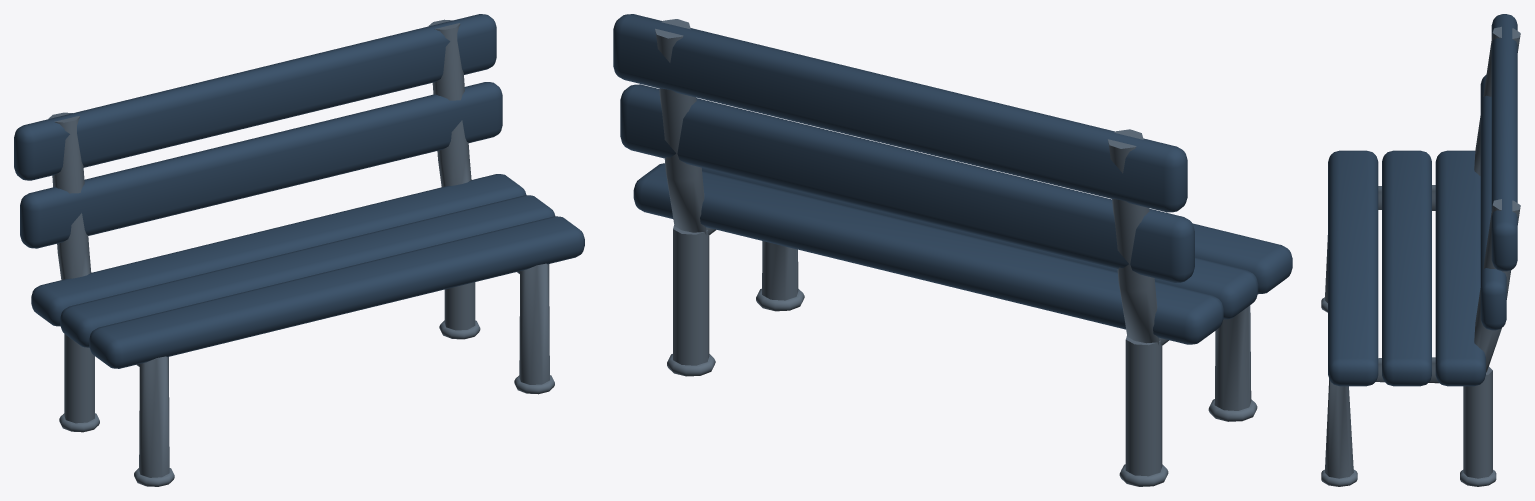
The model's file is Banco.fbx.
The picture shows the model from 3 angles, left to right: view 1: azimuth 30°, elevation 25°; view 2: azimuth 150°, elevation 25°; view 3: azimuth 270°, elevation 25°; orthographic projection. The views are drawn at different scales.
Visible parts, largest first — view 1: Banco_Tablas, Banco_Patas; view 2: Banco_Tablas, Banco_Patas; view 3: Banco_Tablas, Banco_Patas.
Part boxes in pixels (bbox=[...]): Banco_Tablas: bbox=[14, 14, 584, 368]; Banco_Patas: bbox=[48, 19, 554, 486]; Banco_Tablas: bbox=[613, 14, 1292, 344]; Banco_Patas: bbox=[655, 19, 1257, 486]; Banco_Tablas: bbox=[1328, 14, 1517, 386]; Banco_Patas: bbox=[1321, 26, 1520, 486].
Size of the model in its own units: 5.9 by 3.52 by 2.3.
